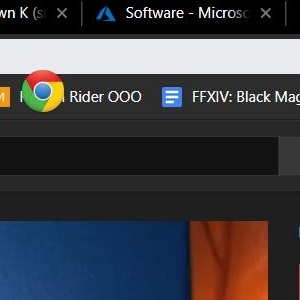chrome: (21, 69, 65, 113)
